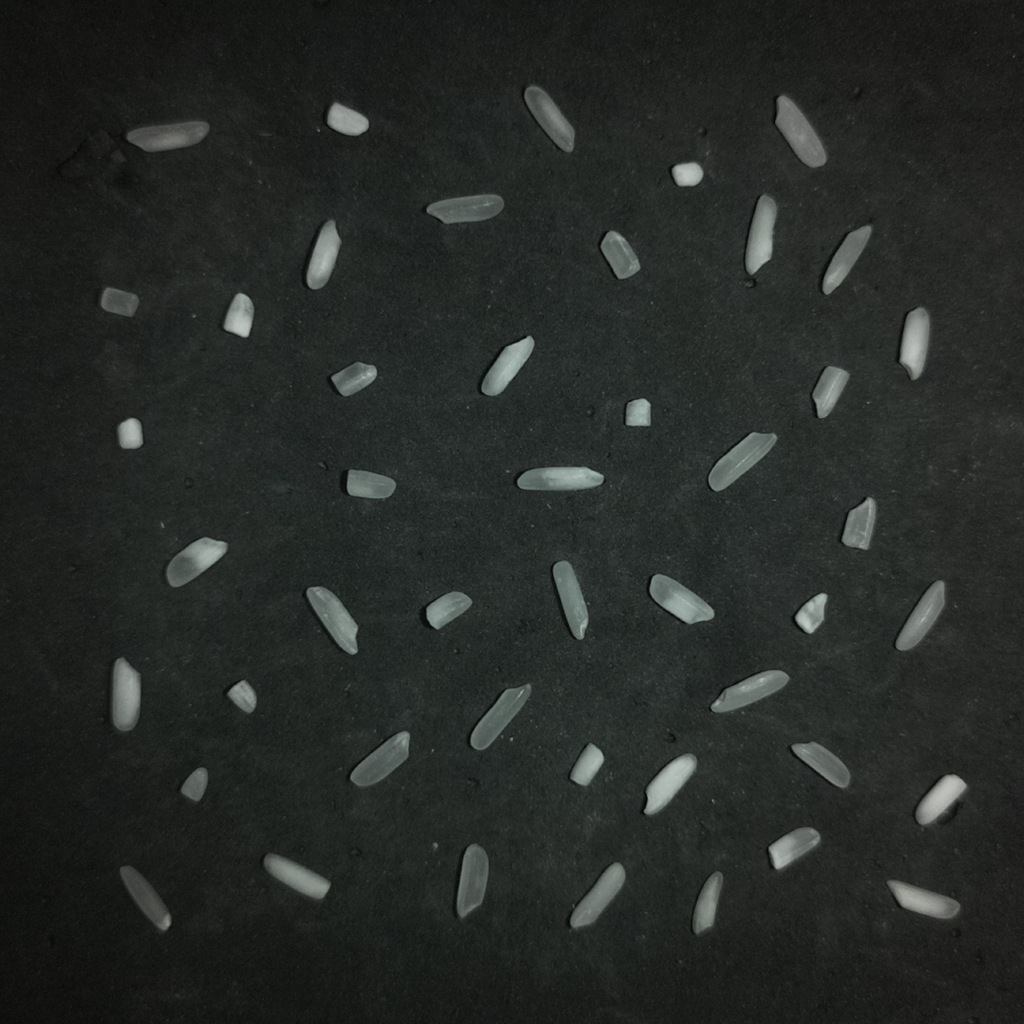broken: (791, 742, 850, 788), (600, 230, 639, 279), (331, 362, 377, 396), (346, 469, 395, 499), (99, 287, 138, 317), (180, 767, 208, 802)
chalky: (569, 862, 624, 929), (481, 336, 534, 396), (644, 754, 696, 815), (649, 574, 713, 623), (263, 853, 330, 899), (165, 537, 226, 587), (886, 880, 959, 918), (915, 774, 966, 825), (745, 194, 777, 275), (306, 219, 341, 290), (768, 826, 820, 869), (899, 307, 929, 379), (111, 657, 140, 731), (517, 466, 603, 490), (692, 871, 724, 935), (812, 366, 849, 418), (842, 497, 876, 549), (425, 591, 471, 629), (569, 742, 604, 786), (325, 102, 368, 136), (222, 293, 253, 337), (794, 593, 827, 633), (226, 680, 256, 713), (117, 417, 143, 450), (671, 162, 703, 186), (625, 398, 650, 426)
whole: (470, 684, 531, 750), (708, 432, 776, 491), (775, 95, 826, 167), (821, 225, 872, 295), (305, 586, 357, 654), (349, 731, 409, 787), (896, 580, 944, 650), (524, 85, 574, 152), (710, 670, 789, 712), (120, 865, 170, 931), (552, 560, 588, 639), (125, 121, 209, 151), (456, 844, 488, 918), (426, 194, 503, 223)
